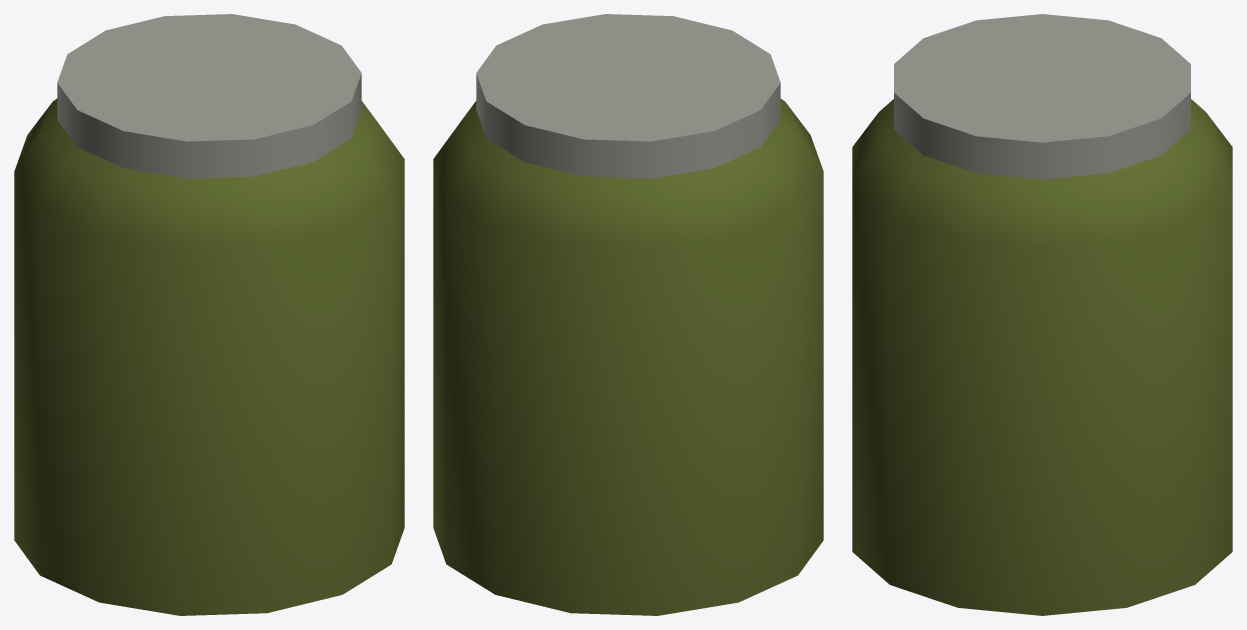
The model's file is tpl_dispensa_vaso_s_olive_giuseppe.glb.
3 renders of one model, left to right at view 1: azimuth 30°, elevation 25°; view 2: azimuth 150°, elevation 25°; view 3: azimuth 270°, elevation 25°, orthographic.
Parts seen in each view (by area): view 1: tpl_dispensa_vaso_s_olive_giuseppe; view 2: tpl_dispensa_vaso_s_olive_giuseppe; view 3: tpl_dispensa_vaso_s_olive_giuseppe.
Part boxes in pixels (x1,y1,x2,y2): tpl_dispensa_vaso_s_olive_giuseppe: (14, 14, 404, 615); tpl_dispensa_vaso_s_olive_giuseppe: (433, 14, 823, 615); tpl_dispensa_vaso_s_olive_giuseppe: (852, 14, 1232, 615).
Bounding box in the file's own units: 0.09 × 0.1158 × 0.0877.
